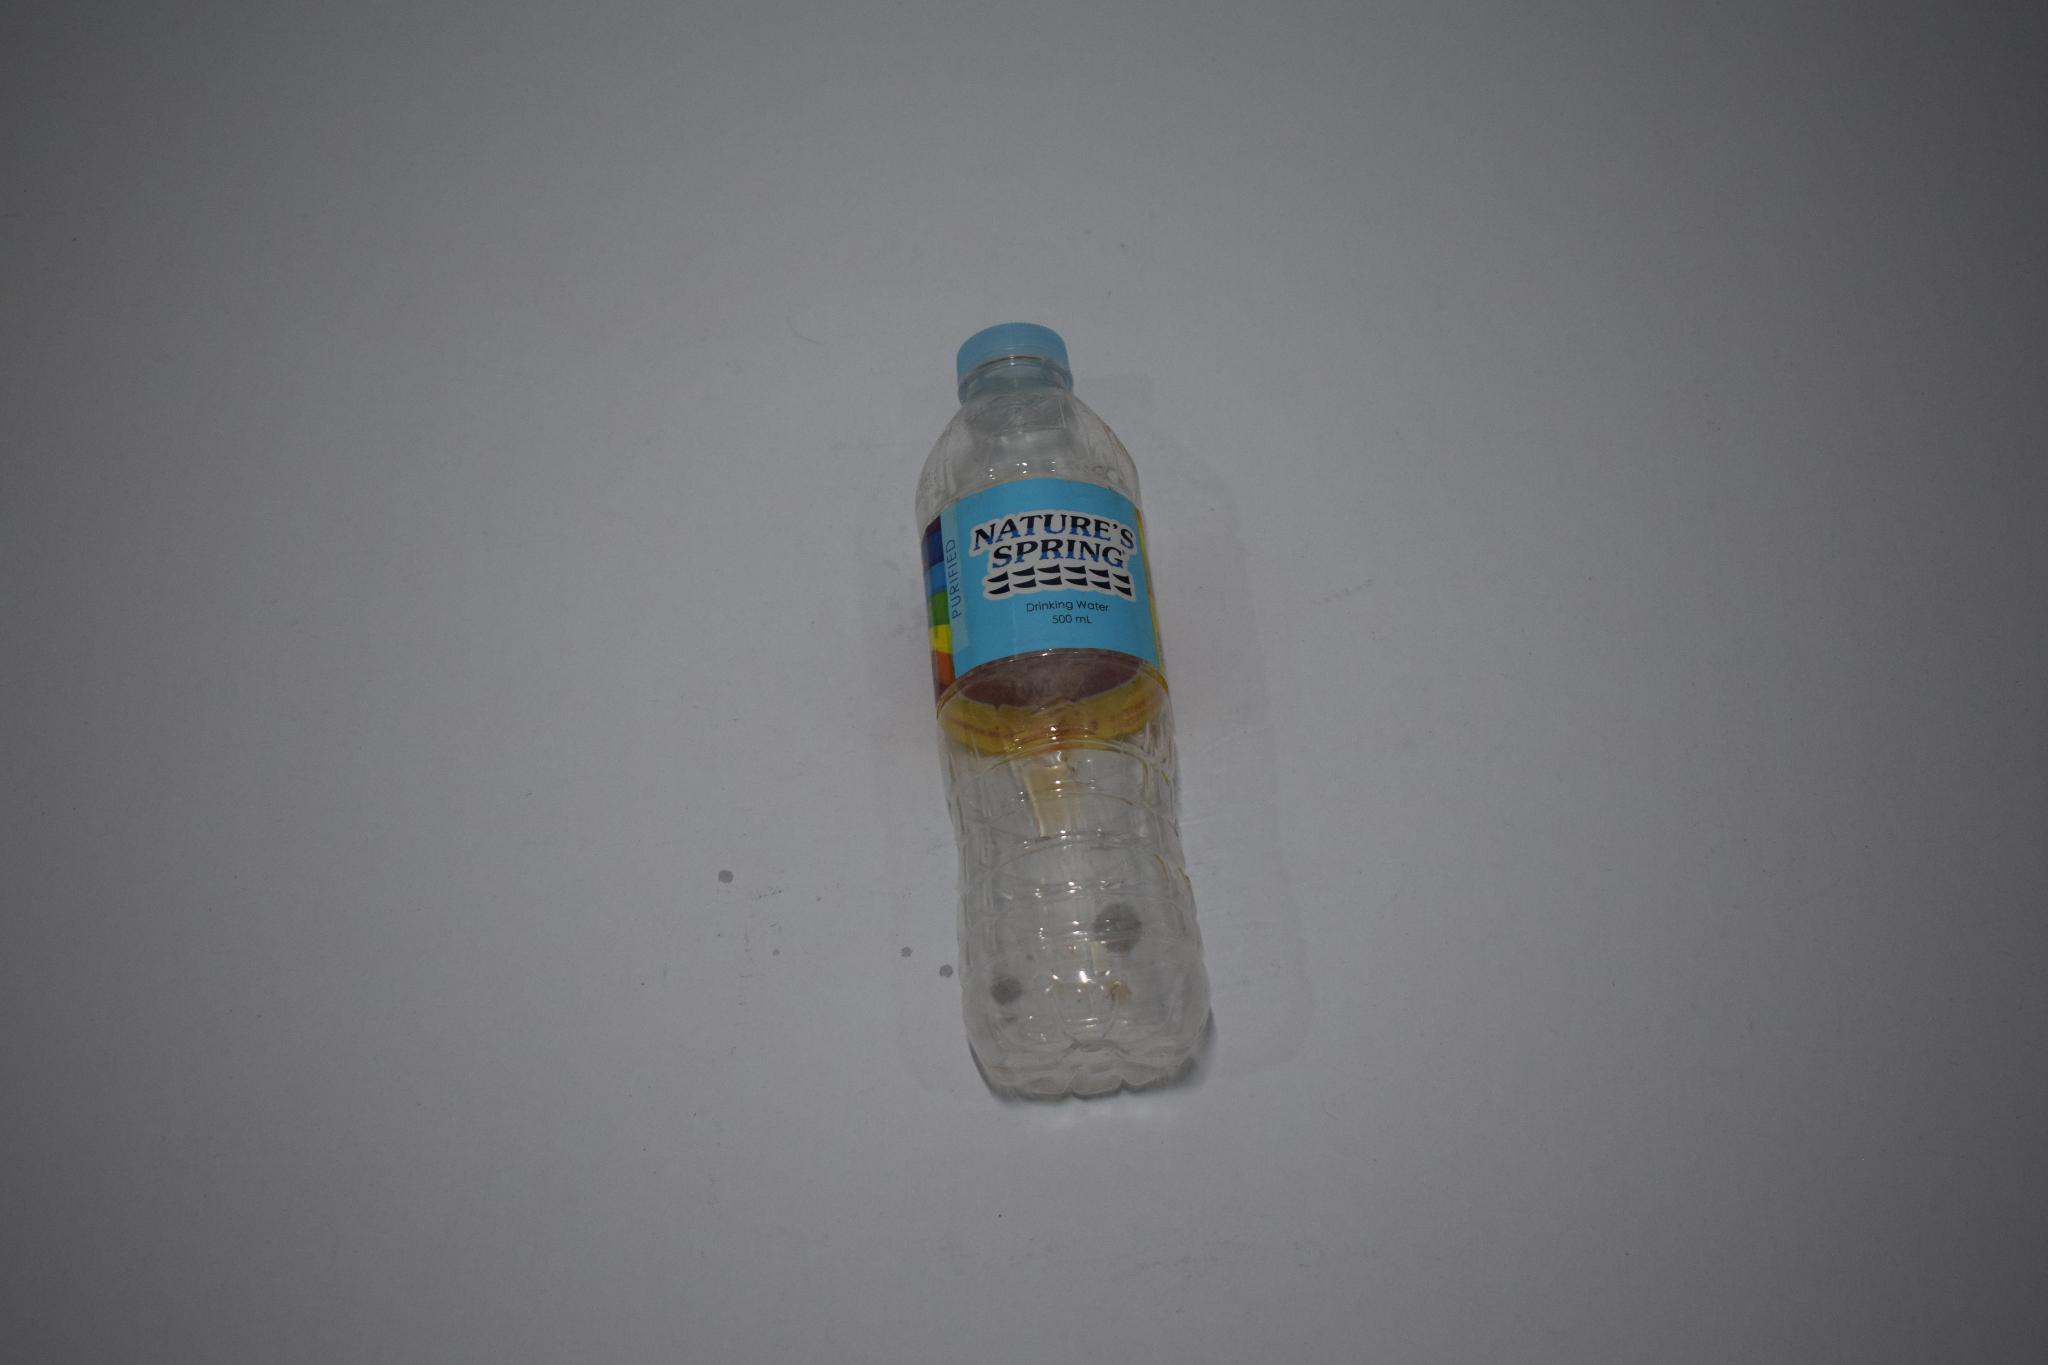bottle: (915, 317, 1221, 1104)
